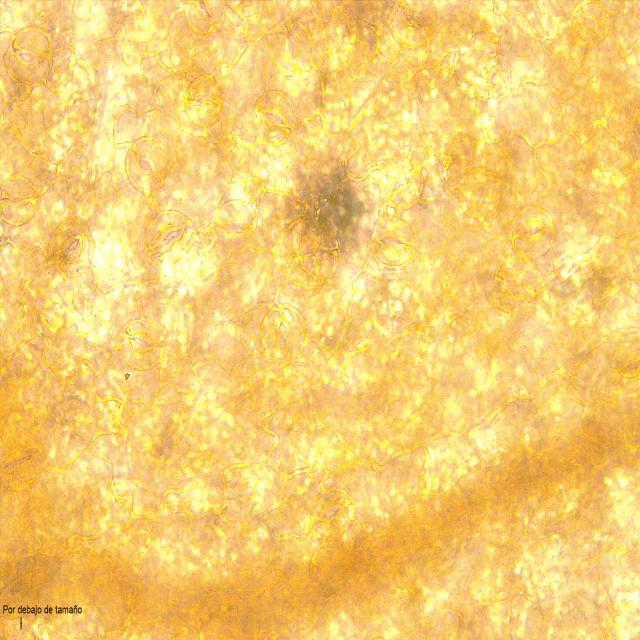Stomata: (275, 215, 339, 291), (4, 25, 53, 89), (492, 256, 542, 314), (144, 210, 193, 267), (258, 305, 306, 362), (50, 217, 94, 278), (0, 431, 43, 493), (124, 136, 169, 193), (307, 488, 356, 540), (510, 203, 554, 260), (252, 89, 295, 147), (371, 215, 415, 269), (458, 166, 502, 220), (380, 157, 424, 209), (119, 318, 162, 370), (390, 0, 436, 47), (273, 19, 313, 72), (184, 74, 223, 126), (0, 174, 38, 227), (570, 0, 610, 49), (474, 53, 511, 102), (611, 340, 640, 394), (184, 0, 223, 38), (185, 0, 224, 36)
